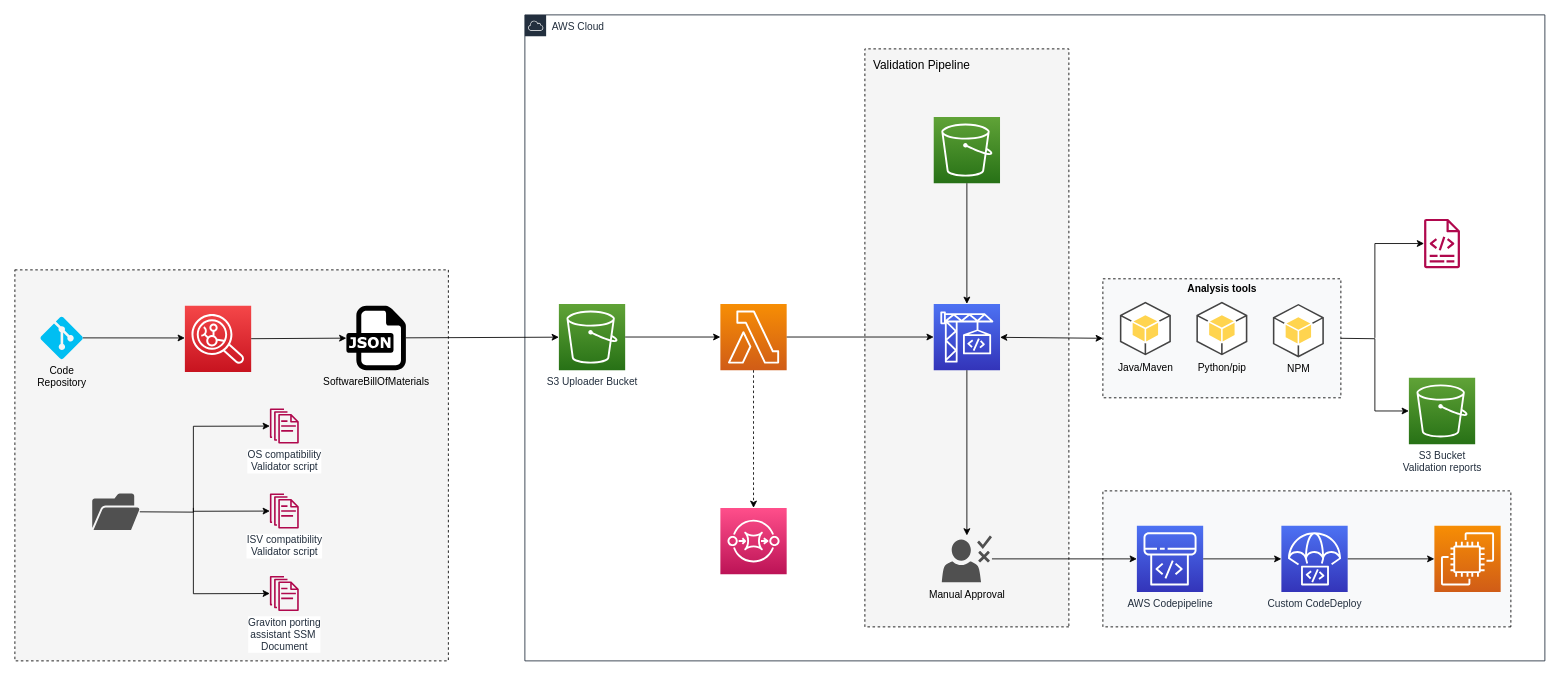
Some shapes in this 1560 by 676 pixel diagram are drawn without their labels. Here are the shapes that lost their labels. From the top down, the centre of each, then its label:
At point (966, 149): "S3- Validation scripts".
At point (1441, 243): "Cloudwatch Logs Dependency Validation logs".
At point (217, 338): "inspector-sbomgen".
At point (753, 336): "Build trigger lambda".
At point (966, 336): "CodeBuild ARM64 Container Compatibility validation".
At point (115, 511): "infra-compatability-scripts".
At point (753, 540): "SQS Dead letter queue".
At point (1467, 558): "EC2 Graviton Instance".
